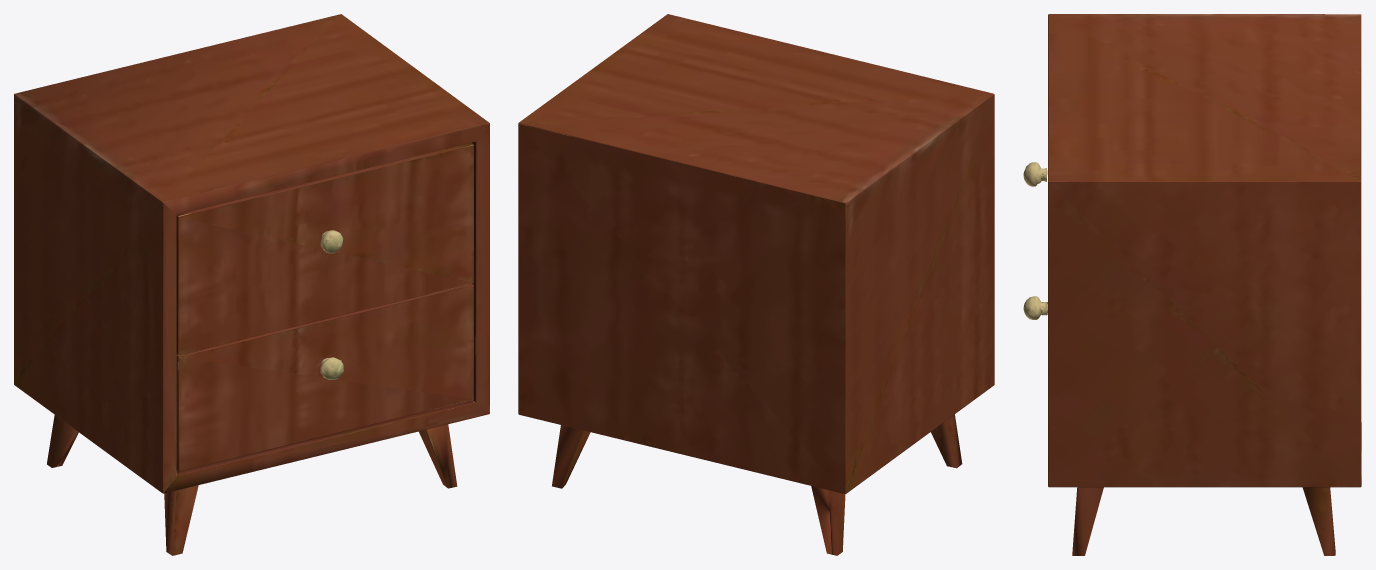
File: Nightstand.glb
3 renders of one model, left to right at view 1: azimuth 30°, elevation 25°; view 2: azimuth 150°, elevation 25°; view 3: azimuth 270°, elevation 25°, orthographic. The views are drawn at different scales.
Bounding box in the file's own units: 0.8891 × 0.9521 × 0.7569.
Materials: 1 (1 with a texture image).
